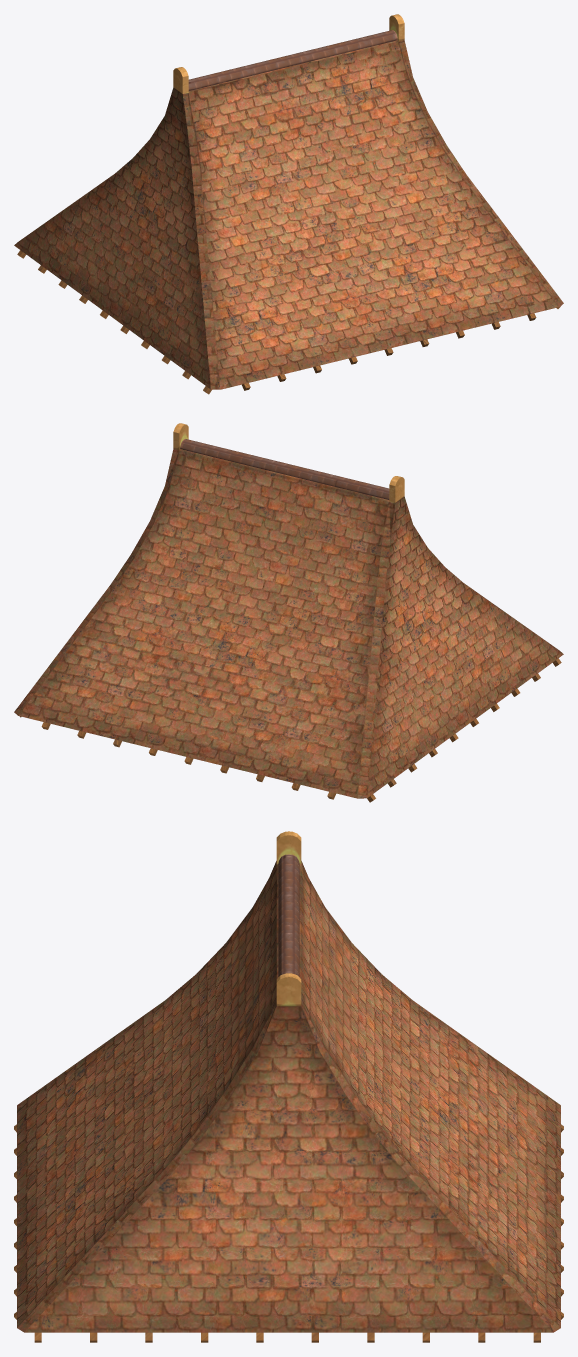
The model's file is sb_obj_outdoor001_Castle01_roof00.fbx.
The picture shows the model from 3 angles, top to bottom: view 1: azimuth 30°, elevation 25°; view 2: azimuth 150°, elevation 25°; view 3: azimuth 270°, elevation 25°; orthographic projection. The views are drawn at different scales.
Parts seen in each view (by area): view 1: sb_obj_outdoor001_Castle01_roof00; view 2: sb_obj_outdoor001_Castle01_roof00; view 3: sb_obj_outdoor001_Castle01_roof00.
Boxes of the visible parts, left/top/right/bottom form: sb_obj_outdoor001_Castle01_roof00: left=14, top=14, right=563, bottom=394; sb_obj_outdoor001_Castle01_roof00: left=14, top=423, right=563, bottom=802; sb_obj_outdoor001_Castle01_roof00: left=14, top=831, right=563, bottom=1342.
Bounding box in the file's own units: 9.98 × 6.44 × 9.92.
